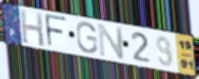2: (130, 31, 152, 64)
9: (156, 35, 175, 68)
F: (43, 13, 68, 49)
G: (75, 21, 99, 54)
H: (19, 8, 46, 49)
N: (97, 22, 126, 61)
